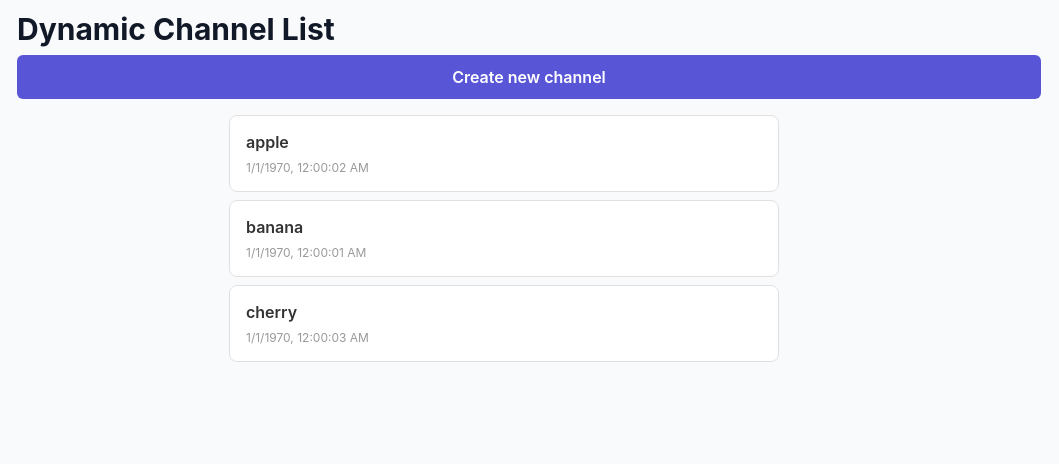
Test: Home Page Integration › should update channel list after creation
The image size is (1059, 464).
Expected: the heading "apple" is shown, [246,132,289,152]
Step 1. Click the button "Create new channel" → (529, 77), box [17,55,1041,99]
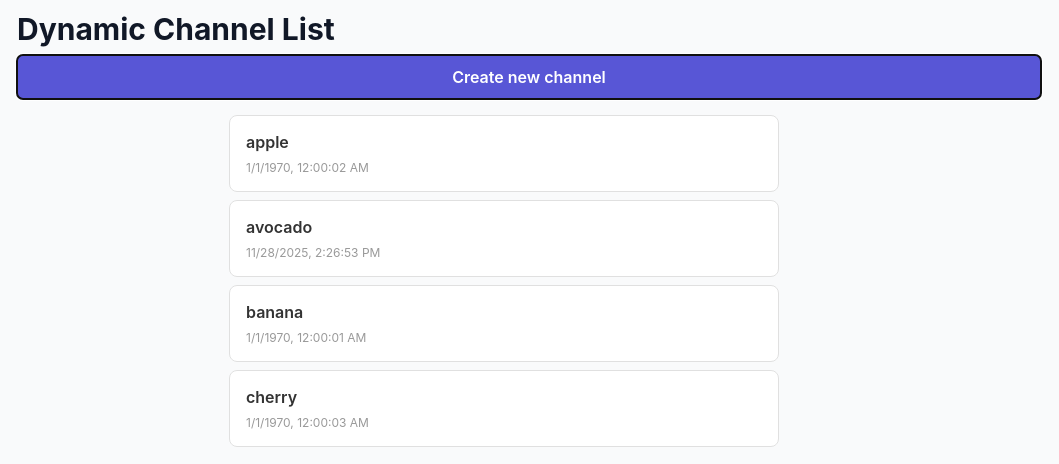
Expected: the heading "avocado" is shown, [246,217,312,237]
